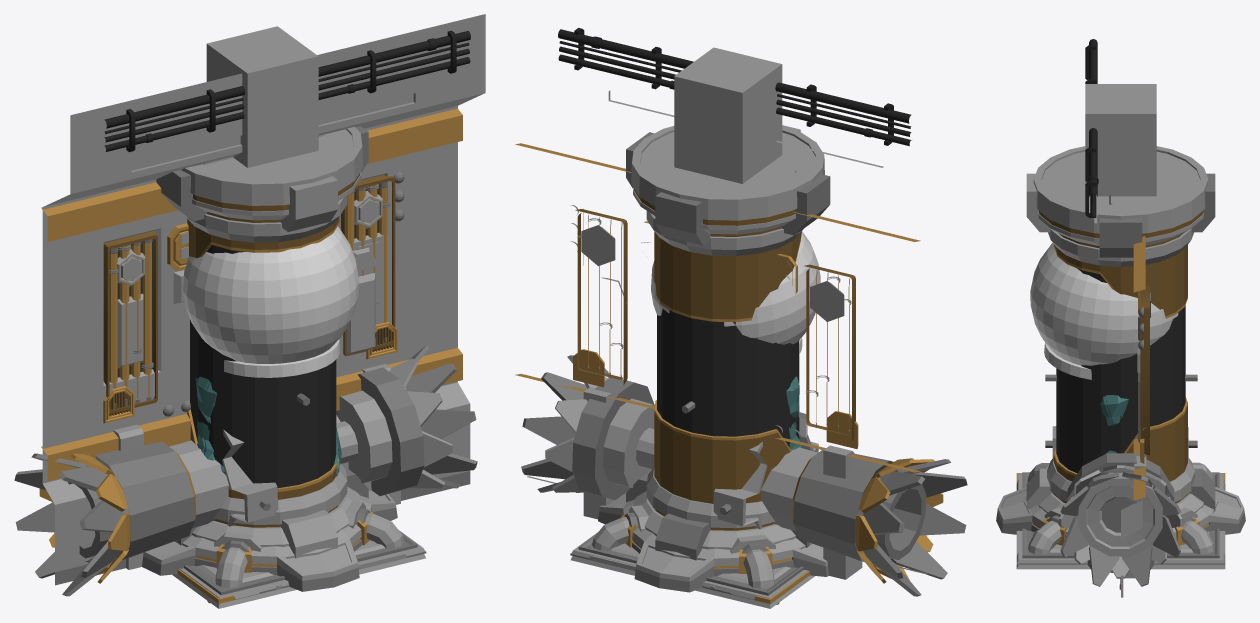
The model's file is arena.glb.
3 views of the same model, side by side, from view 1: azimuth 30°, elevation 25°; view 2: azimuth 150°, elevation 25°; view 3: azimuth 270°, elevation 25° (orthographic). The views are drawn at different scales.
Visible parts, largest first — view 1: Wall_1, Props_Pod, Props_Laser, Wall_2, AlienHelmet, Wall_3, Pipes, Props_Base, Column_1, Column_2, Column_3, FloorTile_Basic (+3 smaller); view 2: Props_Pod, Props_Laser, Pipes, Props_Base, Column_3, Wall_2, Column_2, Column_1, Wall_1, AlienHelmet, Wall_3, FloorTile_Basic (+2 smaller); view 3: Props_Pod, Props_Laser, AlienHelmet, Column_1, Props_Base, Column_2, FloorTile_Basic, Column_3, Wall_2, Wall_1, Pipes, FloorTile_Basic2 (+2 smaller).
Part boxes in pixels (x1,y1,x2,y2): Wall_1: (41,14,485,585); Props_Pod: (156,126,403,587); Props_Laser: (14,346,477,596); Wall_2: (42,32,470,584); AlienHelmet: (183,226,358,521); Wall_3: (42,156,457,481); Pipes: (104,30,470,152); Props_Base: (142,490,397,591); Column_1: (207,26,318,167); Column_2: (208,27,318,167); Column_3: (206,26,318,153); FloorTile_Basic: (179,530,425,599); Props_Pod: (592,125,830,588); Props_Laser: (521,355,967,596); Pipes: (558,28,911,146); Props_Base: (598,492,828,592); Column_3: (676,47,781,178); Wall_2: (533,100,879,481); Column_2: (674,48,782,183); Column_1: (674,47,782,183); Wall_1: (515,90,927,579); AlienHelmet: (651,231,820,448); Wall_3: (573,225,858,449); FloorTile_Basic: (571,532,807,599); Props_Pod: (1026,146,1215,554); Props_Laser: (1045,426,1197,586); AlienHelmet: (1030,243,1178,453); Column_1: (1085,84,1156,196); Props_Base: (996,487,1245,572); Column_2: (1085,84,1156,196); FloorTile_Basic: (1017,472,1224,563); Column_3: (1085,84,1156,191); Wall_2: (1094,198,1149,596); Wall_1: (1094,195,1150,597); Pipes: (1085,39,1098,217); FloorTile_Basic2: (1016,565,1225,569).
Size of the model in its own units: 4.08 by 5 by 2.4.
